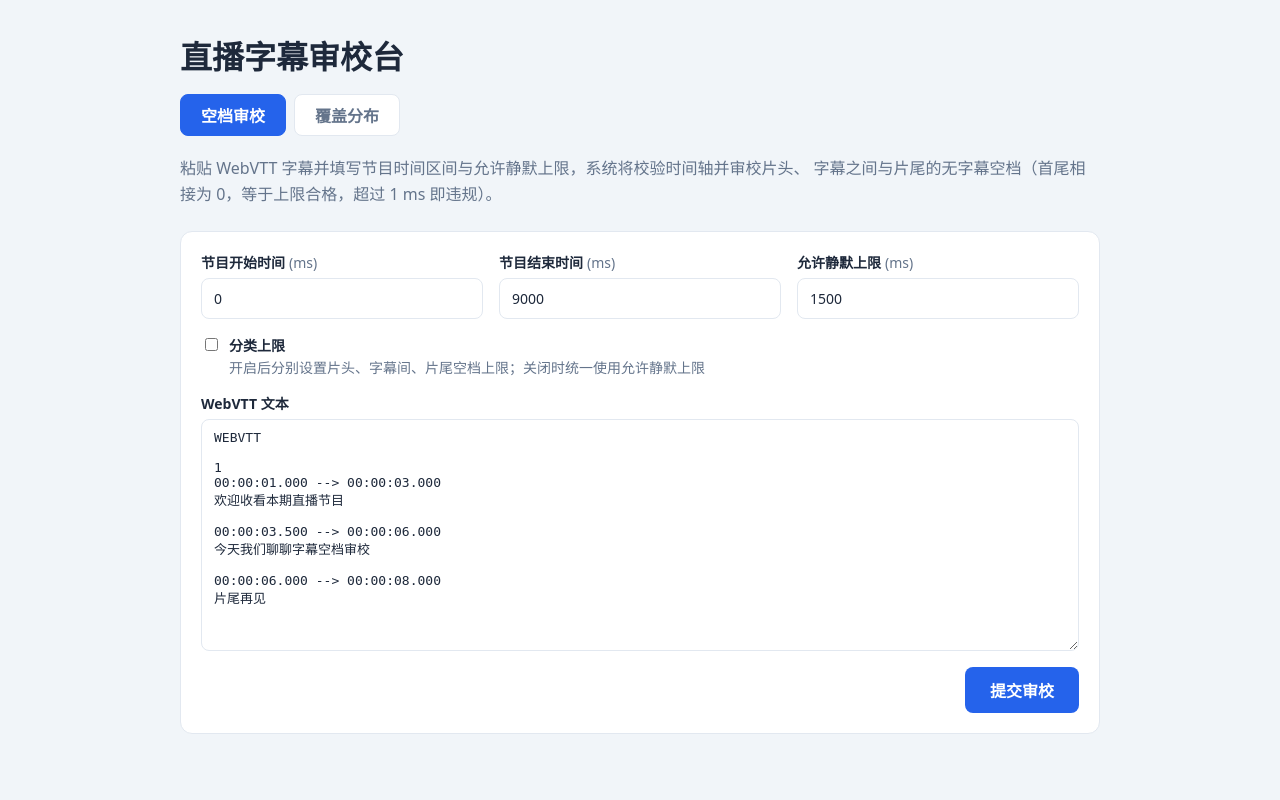
Test: Coverage page states › shows a source error with its original line number
The width and height of the screenshot is (1280, 800).
What coordinates should you click on to do the following:
click the tab with test id "tab-coverage"
I would click on:
 (347, 115)
Its box is [294,94,400,136].
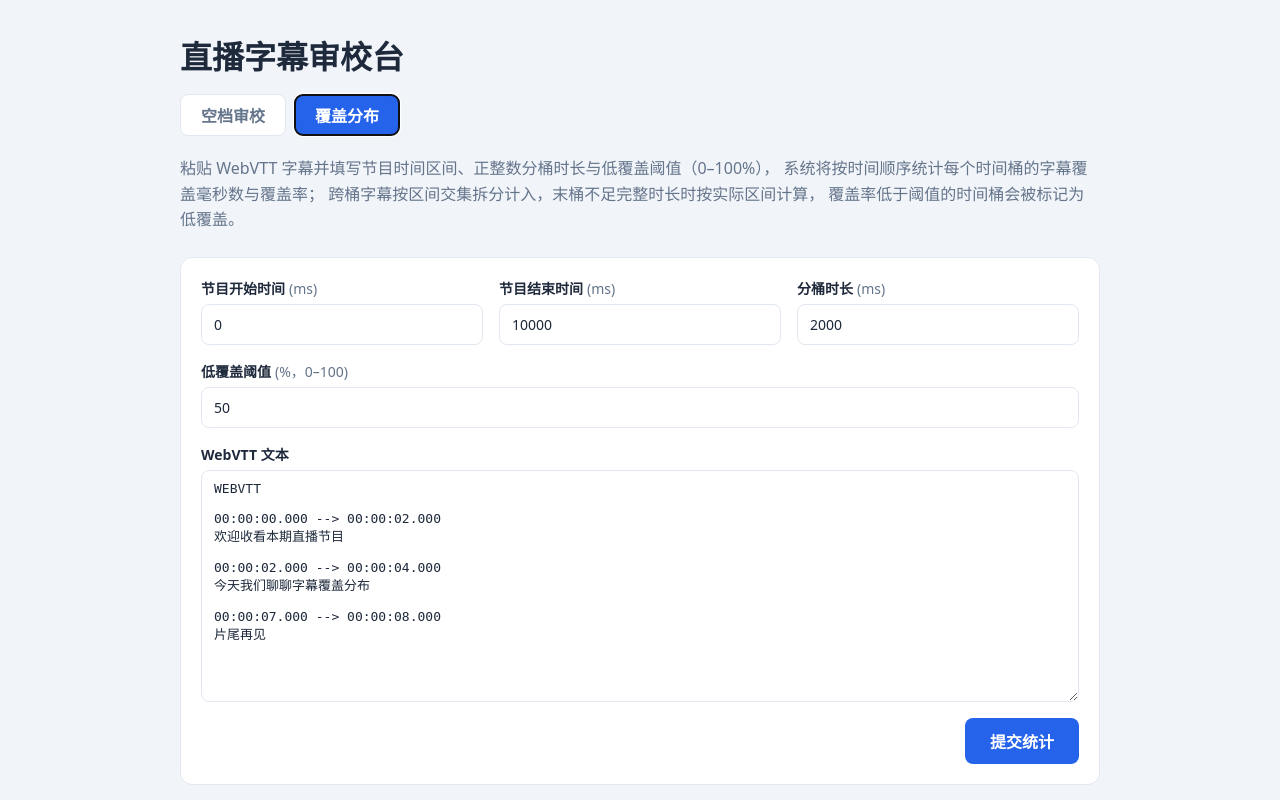
What coordinates should you click on to do the following:
click the button with test id "coverage-submit"
I would click on:
 (1022, 741)
Its box is [965,718,1079,764].
(page scrolled)
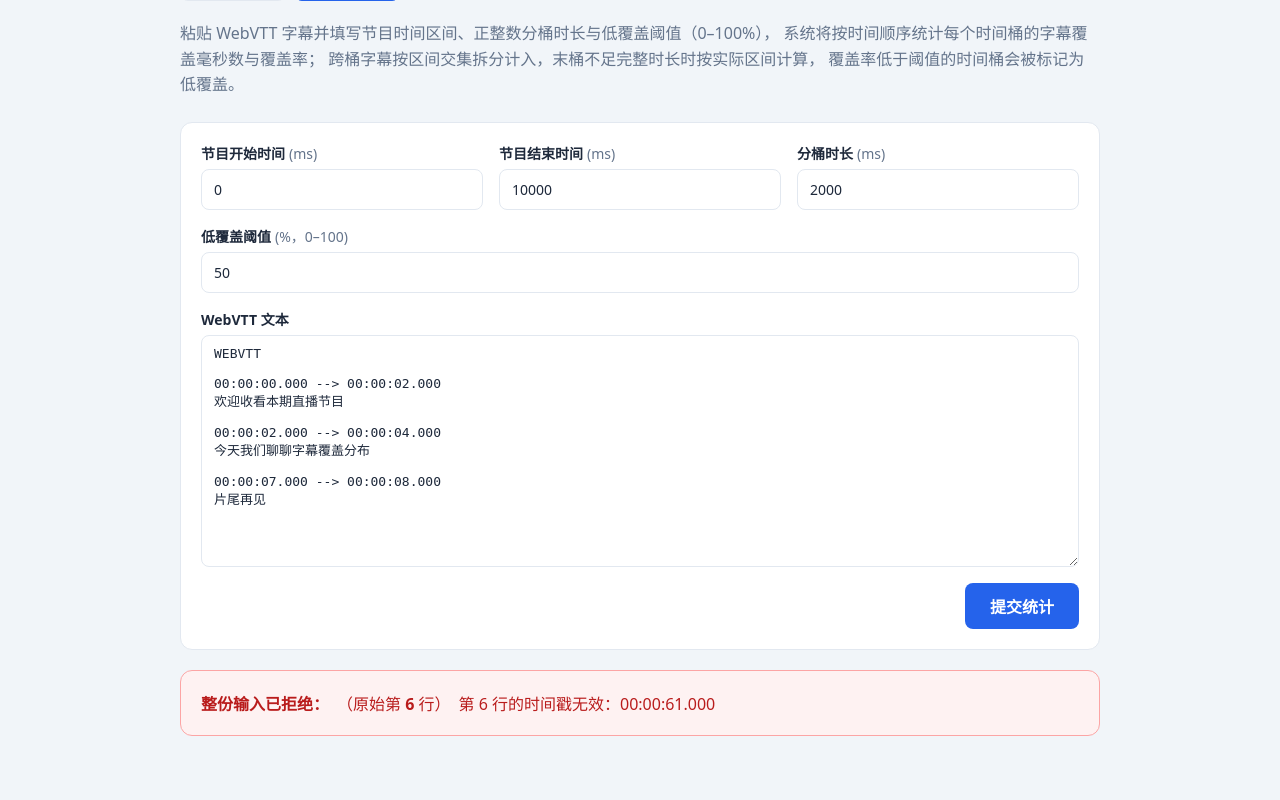
expect the message with test id "coverage-source-error" shows "整份输入已拒绝": met, box [201,693,329,715]
expect the text with test id "coverage-source-error-line" reads "6": met, box [405,693,414,715]
